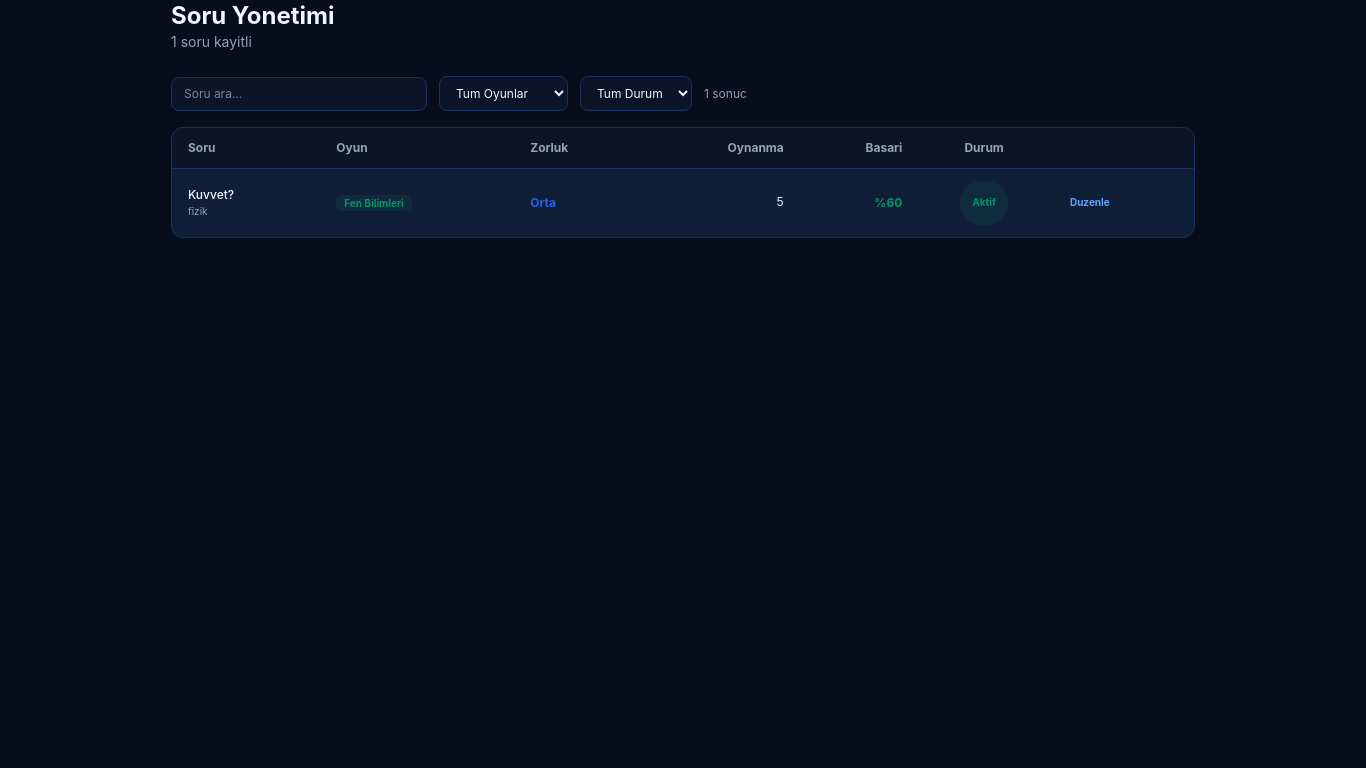
Test case: AdminQuestionsPage legacy outcome repair › does not silently discard secondary mappings when the compact editor selects a new outcome
Click the button "Duzenle".
click(1090, 203)  # box [1062,181,1118,225]
(page scrolled)
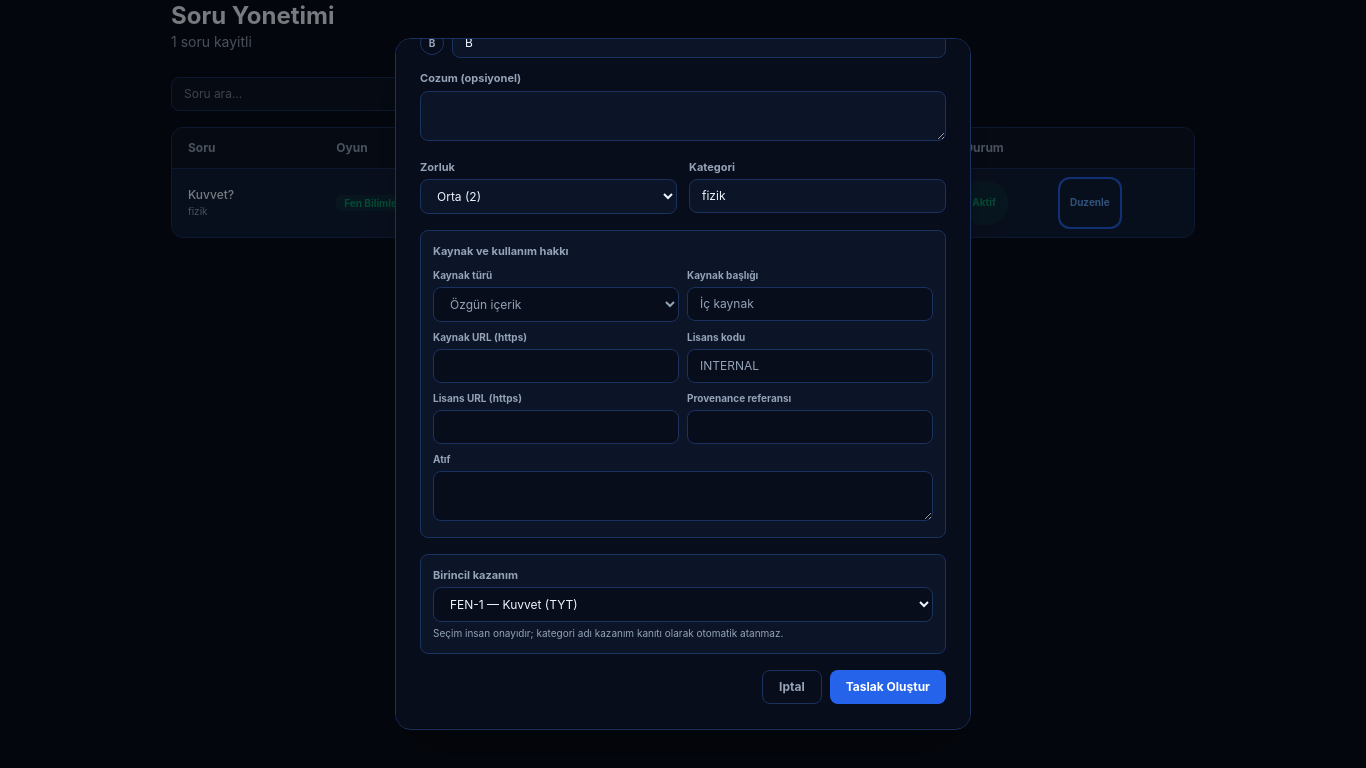
Select "FEN-3 — Enerji (TYT)" in the dropdown labelled "Birincil kazanım" at (683, 605), box [433,587,933,622]
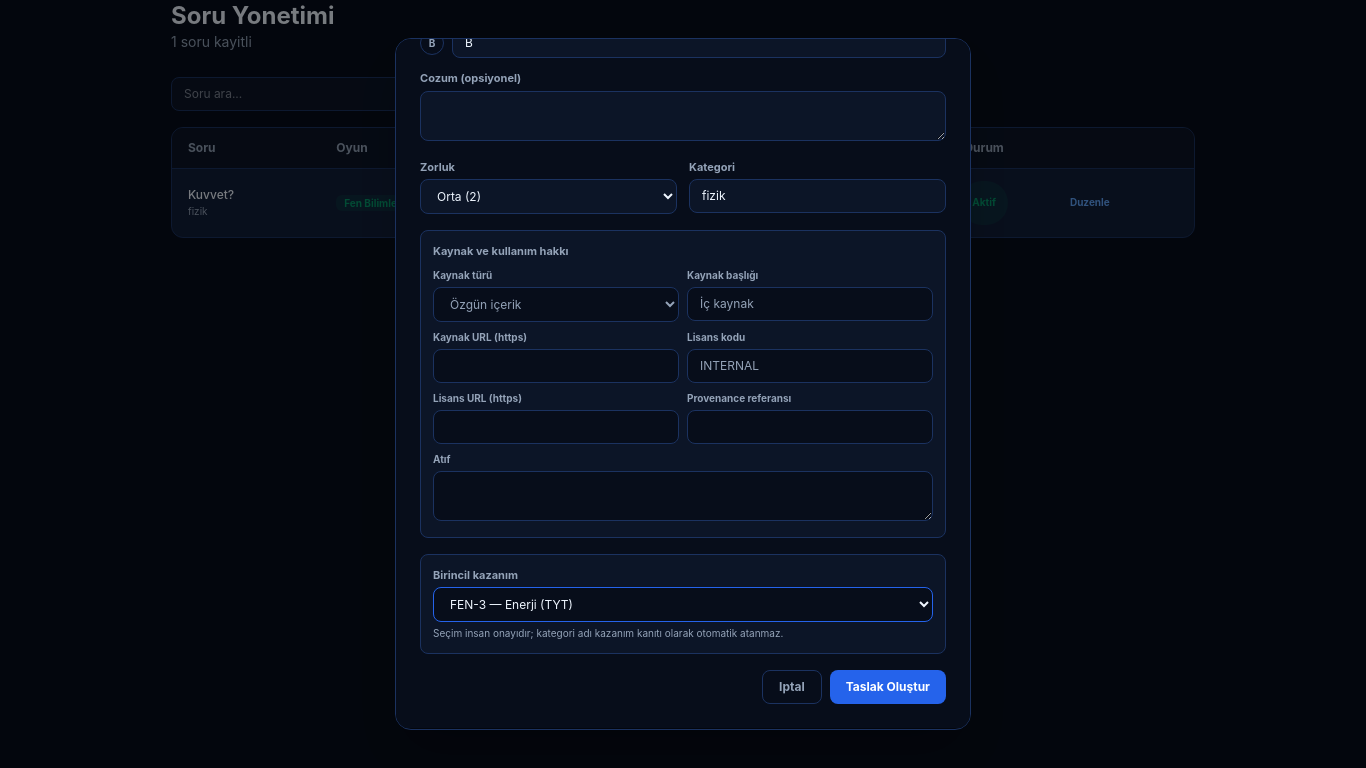
Click the button "Taslak Oluştur".
click(888, 687)  # box [830,670,946,704]
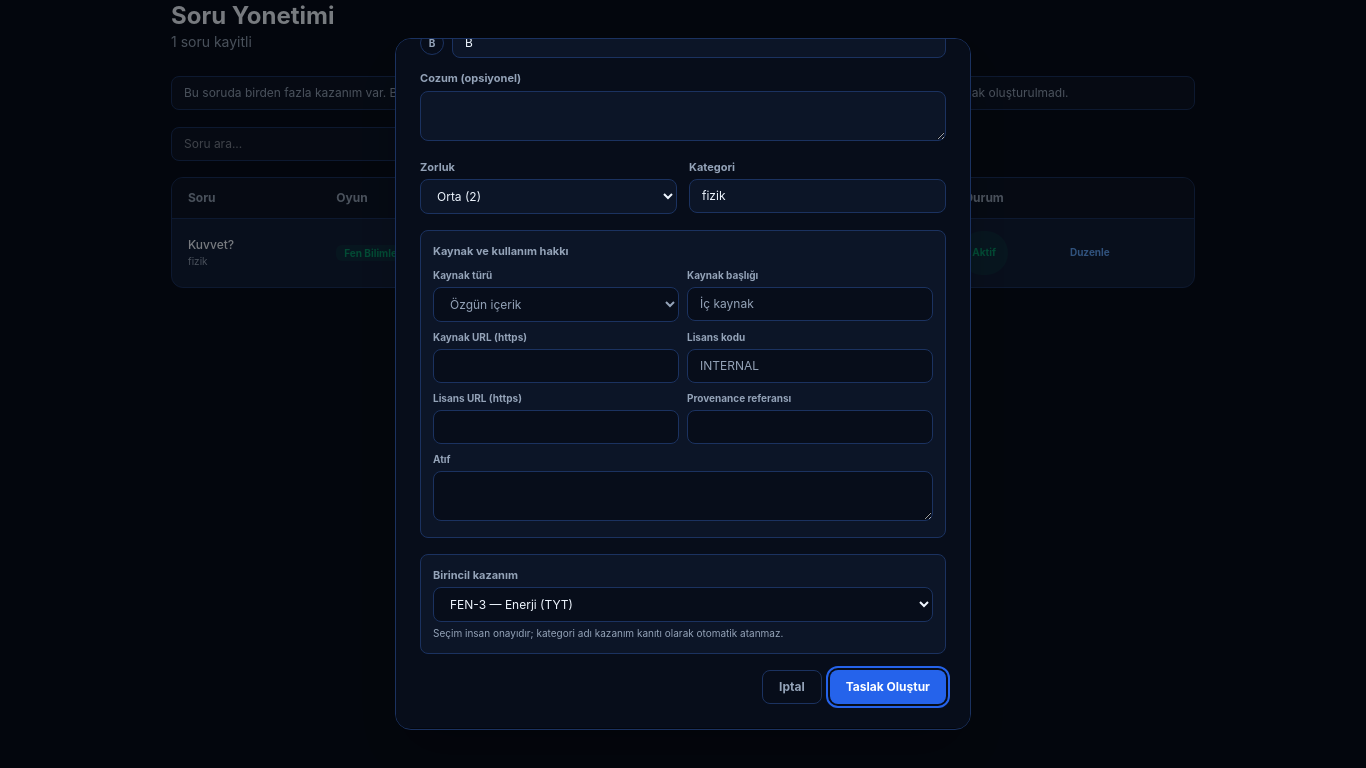
Result: the text "birden fazla kazanım var" is shown at [184,85,1068,100]
